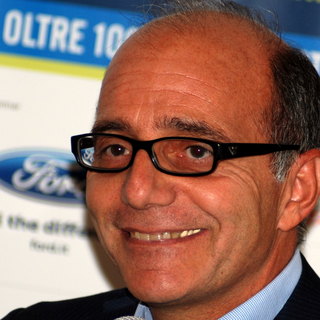eye: (175, 143, 215, 162), (95, 142, 131, 160)
